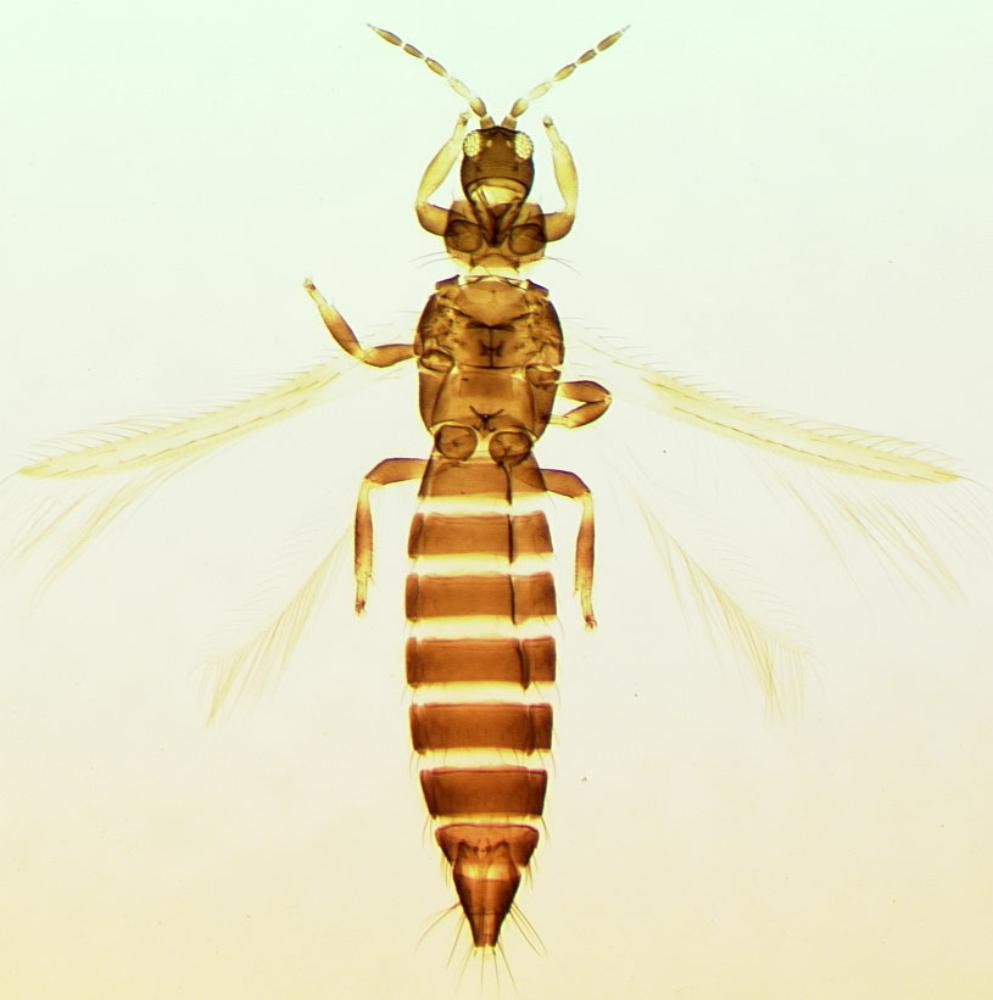Thripidae: (13, 13, 993, 955)
